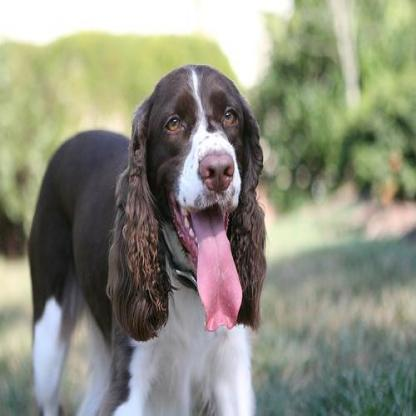English_springer: (26, 61, 266, 414)
